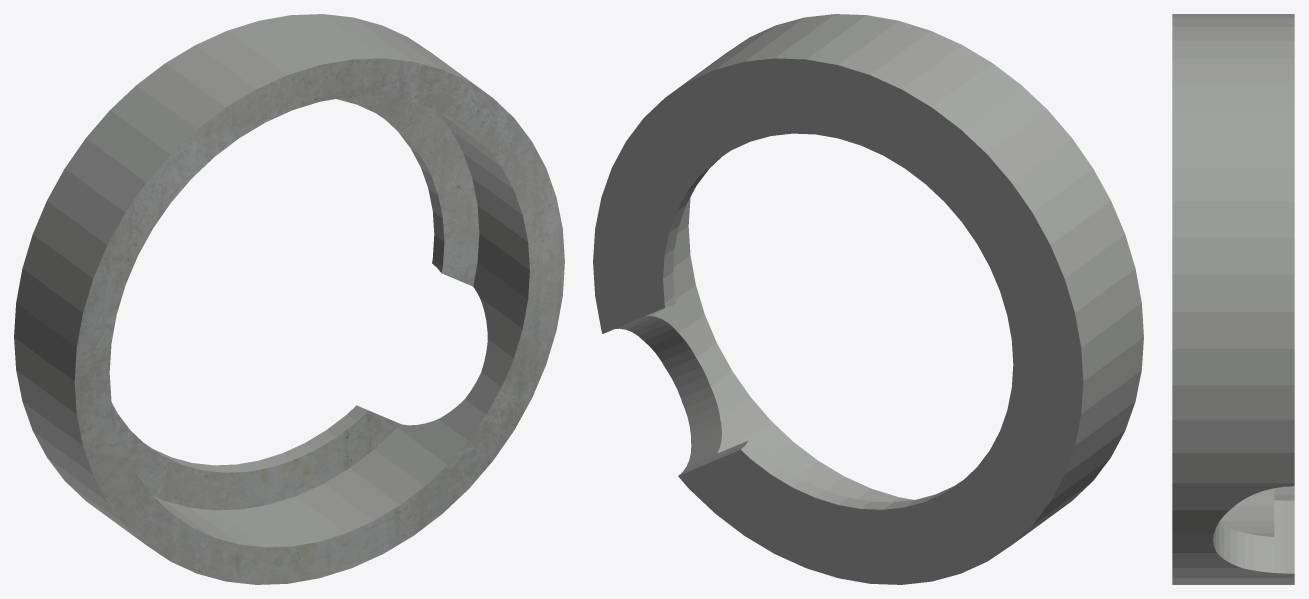
File: pool_041.obj
3 views of the same model, side by side, from view 1: azimuth 30°, elevation 25°; view 2: azimuth 150°, elevation 25°; view 3: azimuth 270°, elevation 25° (orthographic).
Size of the model in its own units: 14 by 14 by 3.
